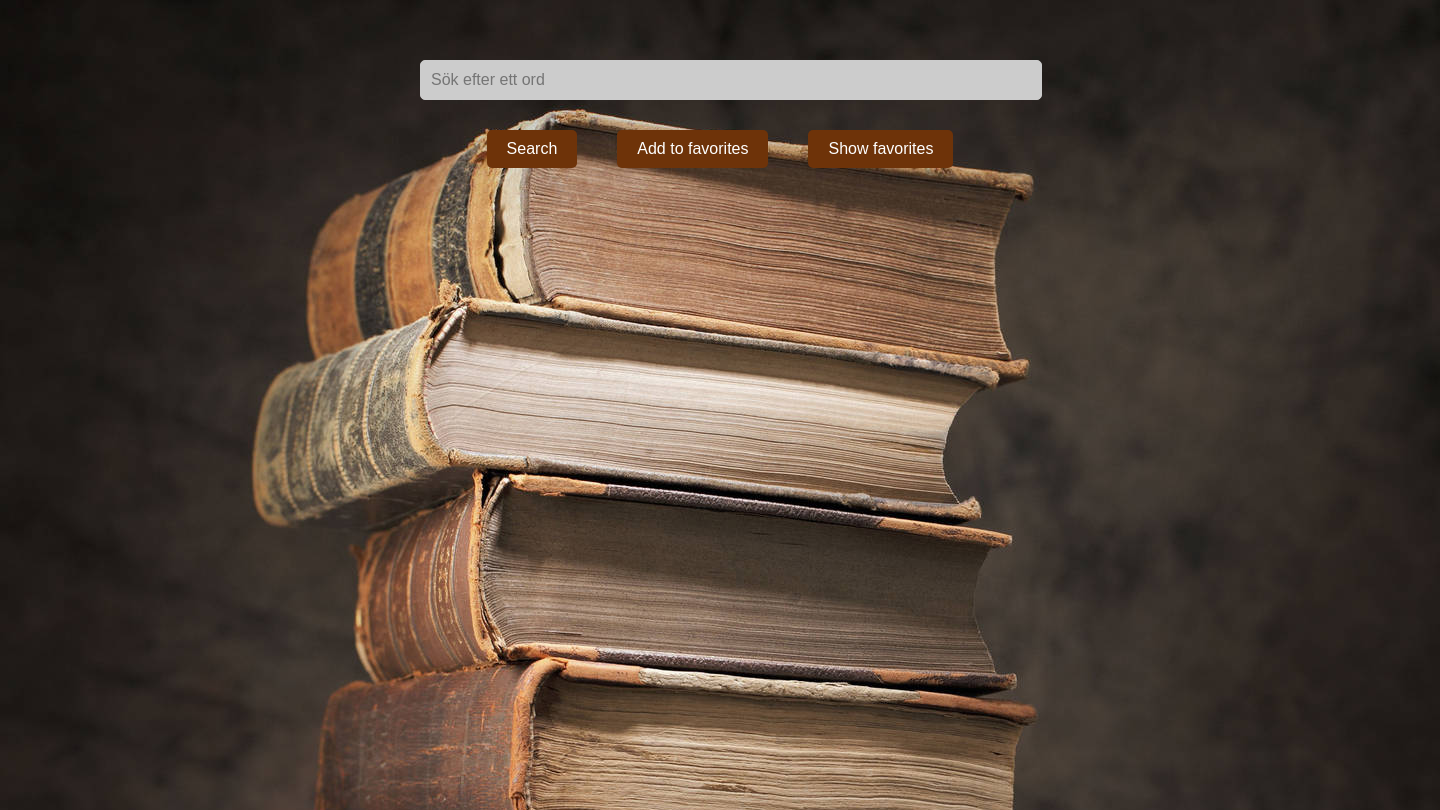
Test: Create Dictionary Error Handling Tests › should display an error message for empty search
användaren klickar på "Search" utan att ange ett sökord
Click the button "Search": (532, 149) [487, 130, 577, 168]
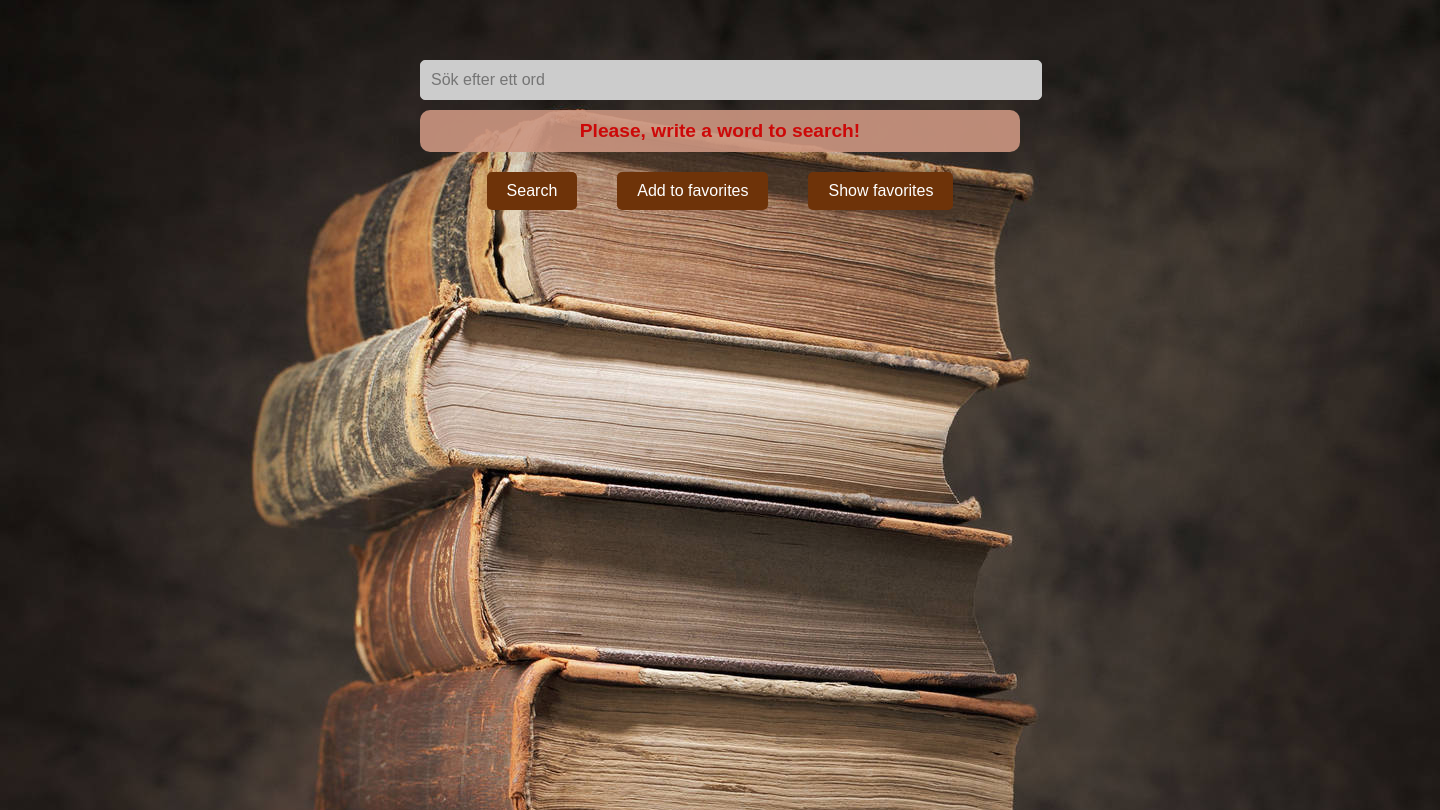
Expected: the text "Please, write a word to search!" is shown, [420, 110, 1020, 152]
